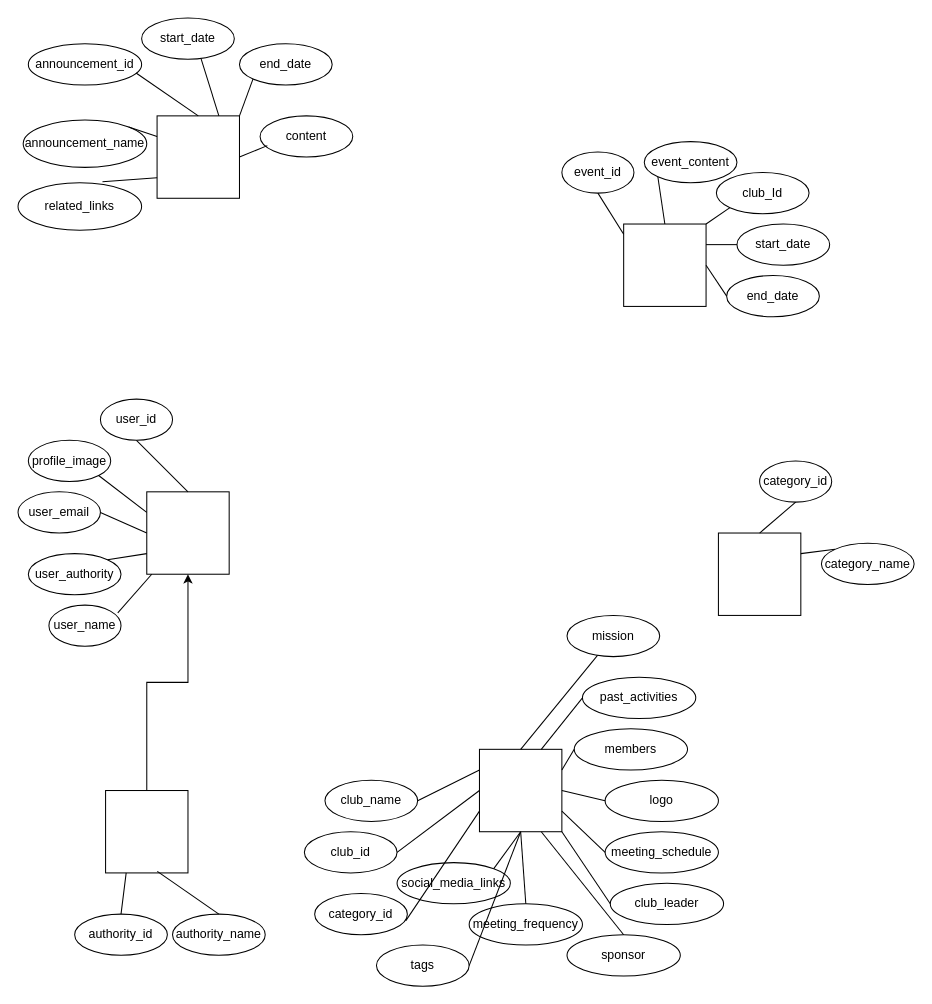
The diagram is 932 pixels wide and 1004 high, and some of its shapes have lost their labels. Each missing label, with the centre of its shape:
Announcement: point 197,156
Authority: point 146,831
ClubCategory: point 759,573
ClubInfo: point 520,790
EventDetail: point 664,264
User: point 187,532
